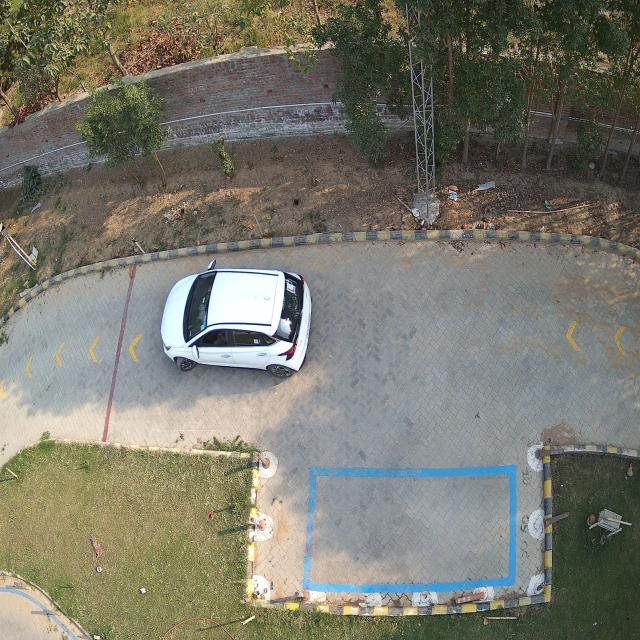car: (161, 262, 312, 377)
